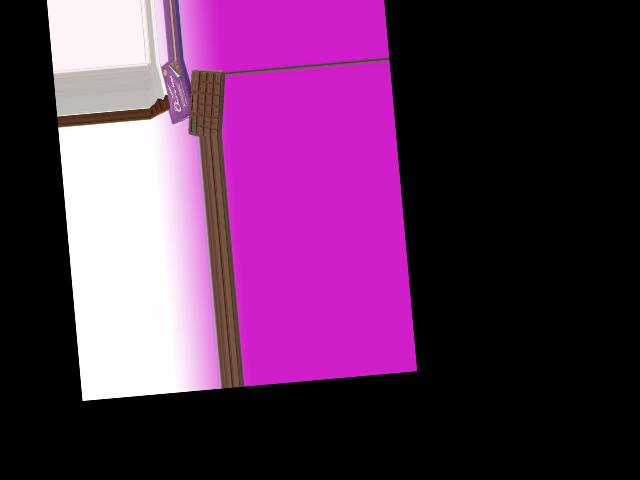chocolate: (181, 68, 230, 135)
